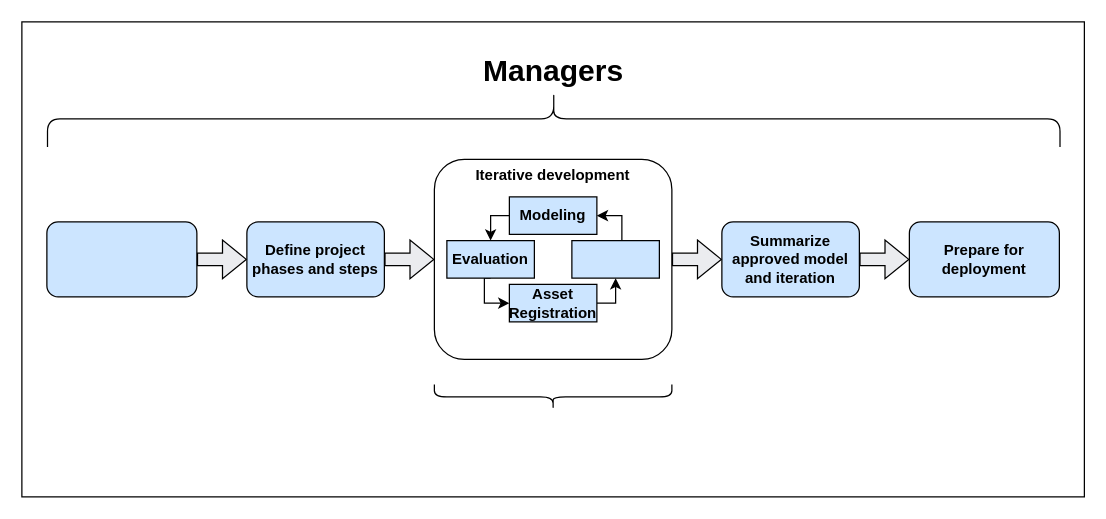
This 1106x519 diagram has some shape labels left out. The shapes that lost their labels are listed below. From the top down, each one's centre as x and y in pixels, then its label:
At pixel 121 259: "Project Configuration".
At pixel 615 258: "Reviews".
At pixel 552 396: "Data Scientists".
